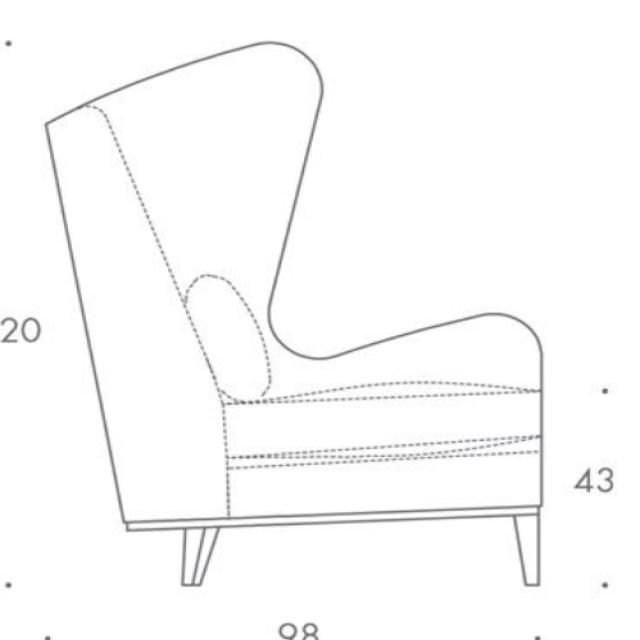Armrest: (219, 308, 549, 412)
Backrest: (43, 105, 227, 529)
Leg_Structure: (178, 511, 546, 591)
Seat: (220, 379, 545, 524)
Wing_Flange: (82, 39, 327, 409)
